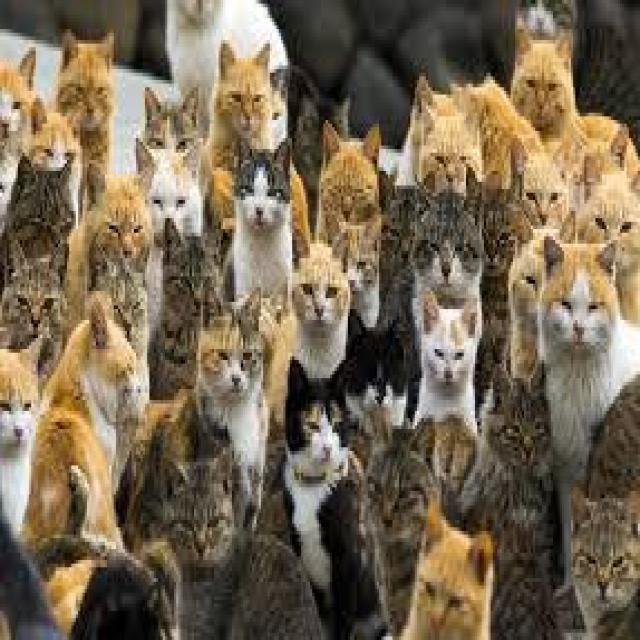Cat: (407, 489, 501, 637), (359, 402, 446, 552), (541, 224, 624, 366), (77, 283, 145, 442), (155, 443, 239, 571), (569, 475, 640, 622), (282, 347, 354, 487), (412, 176, 488, 305), (193, 286, 271, 410), (1, 212, 72, 345), (84, 148, 153, 269), (128, 132, 205, 238), (509, 12, 580, 125), (158, 218, 228, 328), (582, 149, 640, 281), (230, 126, 296, 238), (507, 129, 578, 233), (78, 243, 150, 345), (491, 362, 555, 476), (319, 113, 384, 225), (291, 222, 353, 337), (322, 199, 383, 311), (58, 26, 120, 135), (418, 99, 488, 194), (414, 296, 480, 396), (212, 36, 275, 140), (511, 206, 548, 364), (26, 90, 83, 192), (1, 329, 42, 464), (13, 150, 79, 232), (142, 78, 206, 157), (0, 38, 36, 157)
